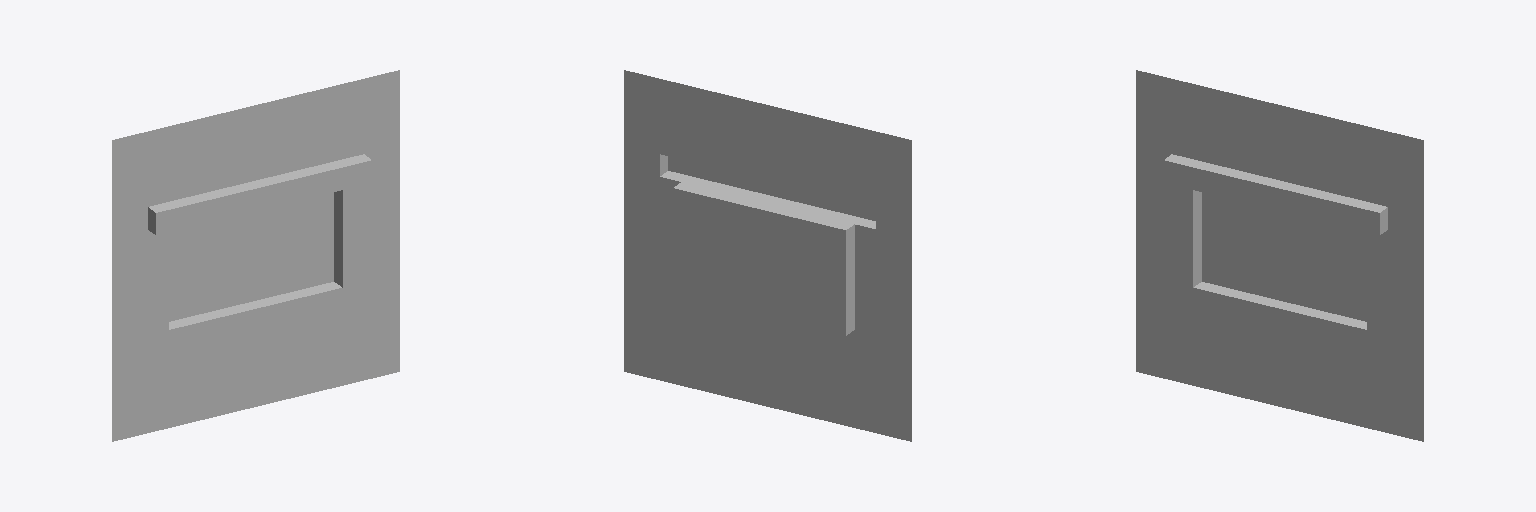
File: wall_windowD.obj
3 renders of one model, left to right at view 1: azimuth 30°, elevation 25°; view 2: azimuth 150°, elevation 25°; view 3: azimuth 330°, elevation 25°, orthographic.
Visible parts, largest first — view 1: wall_windowD; view 2: wall_windowD; view 3: wall_windowD.
Boxes of the visible parts, <box> form: wall_windowD: <box>112,70,399,441</box>; wall_windowD: <box>624,70,911,441</box>; wall_windowD: <box>1136,70,1423,441</box>.
Size of the model in its own units: 0.4 by 0.4 by 0.04.